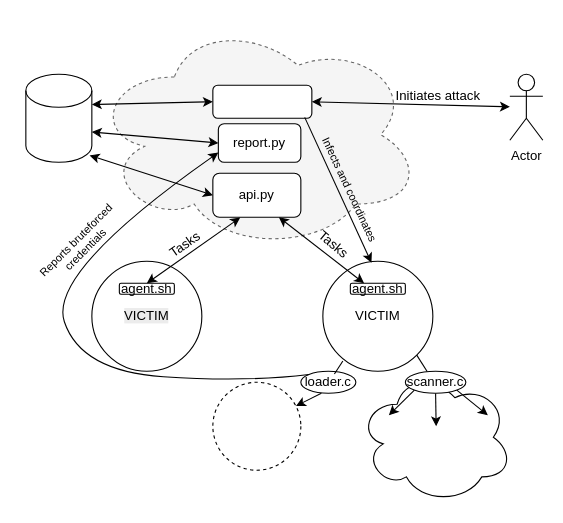
Image size: 563x523. Some labels were removed from this diagram. Each missing label, with the box of its shape:
botnet.db: (25, 73, 92, 162)
dispatcher.py: (212, 84, 312, 118)
Possible victims: (358, 370, 513, 503)
Scanned victim: (212, 381, 301, 470)
